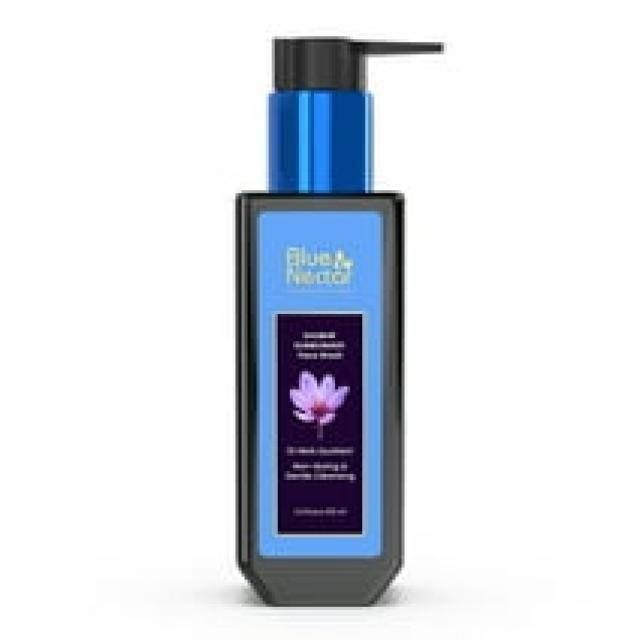Flower: (289, 370, 354, 432)
